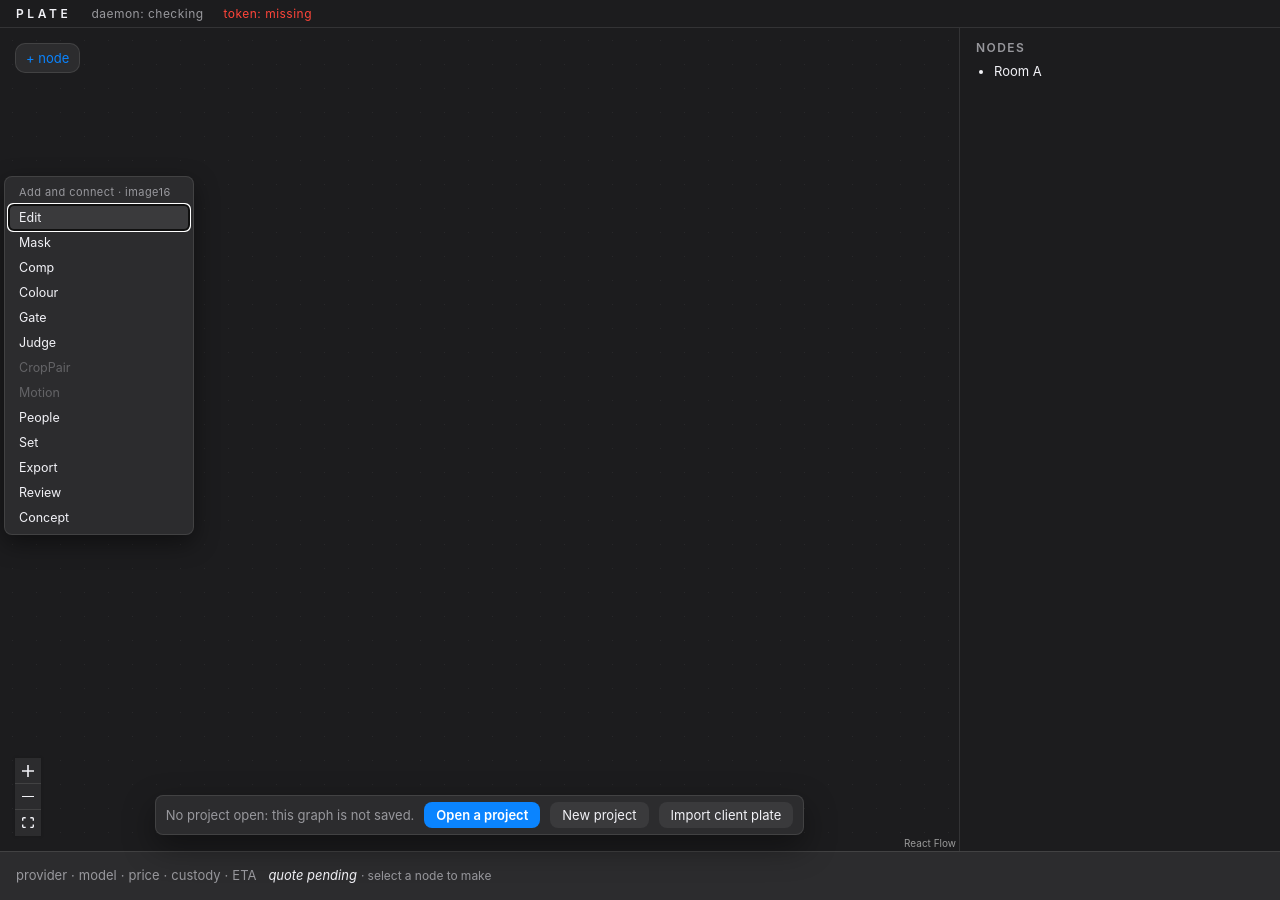
connect-drop on the empty canvas › an image16 output offers Edit/Comp/Colour/Motion…/Export; adding one places it and wires it
Expected: the element with test id "canvas-menu-drop" shows "Add and connect · image16", [19, 185, 171, 199]
Expected: the menu item with test id "menu-drop-Motion" is disabled, [9, 380, 189, 405]
Click the menu item with test id "menu-drop-Edit": [99, 218] box [9, 205, 189, 230]
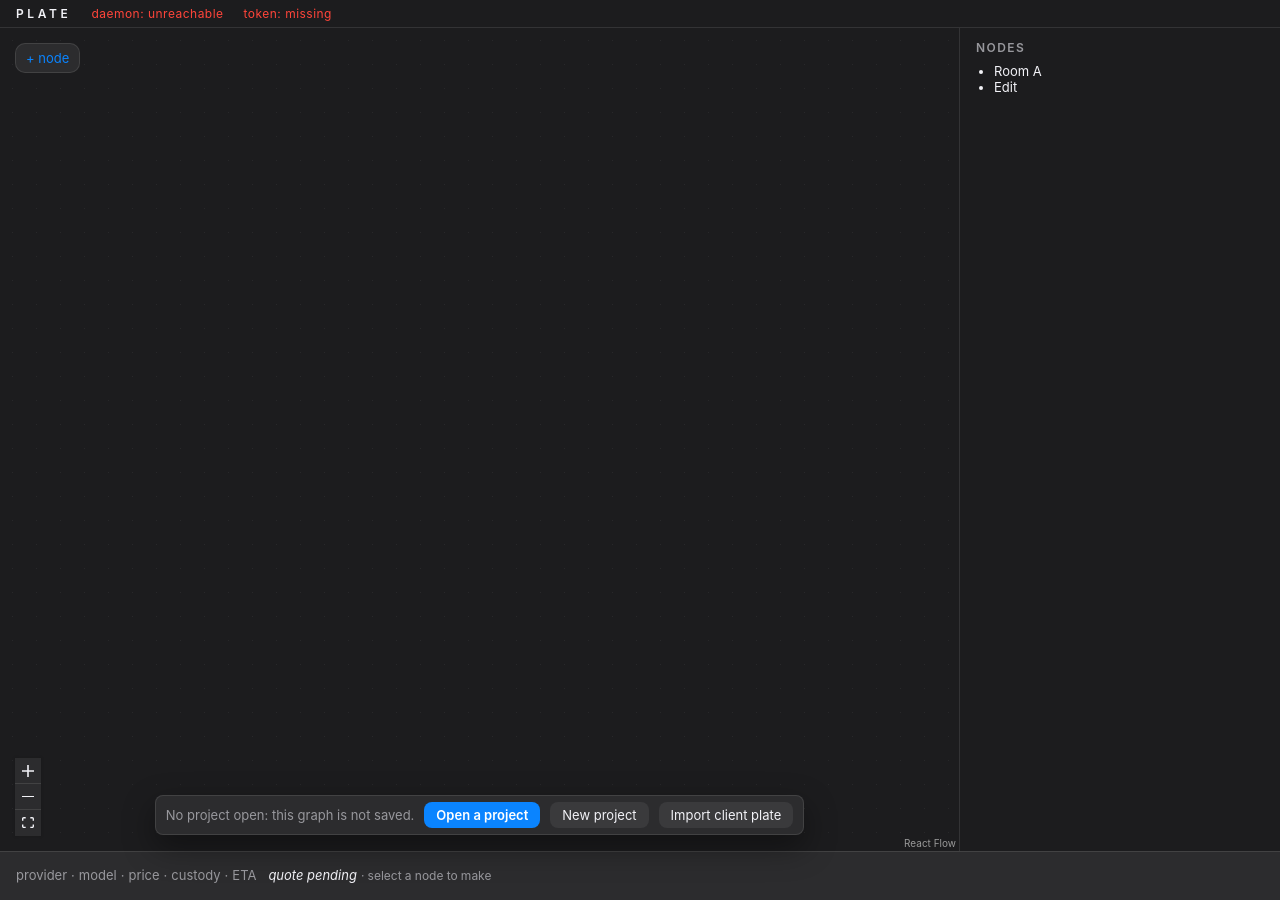
Expected: the element with test id "canvas-menu-drop" is gone
